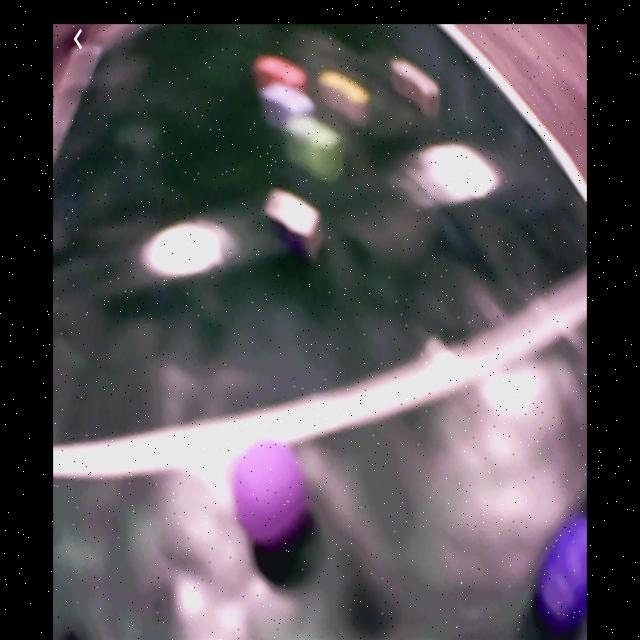ball: (234, 442, 307, 541), (537, 512, 588, 626)
